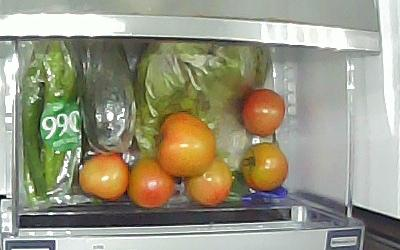tomato: (154, 110, 215, 177), (77, 150, 129, 200), (125, 156, 175, 208), (240, 141, 288, 190), (183, 157, 232, 205), (240, 88, 285, 136)
